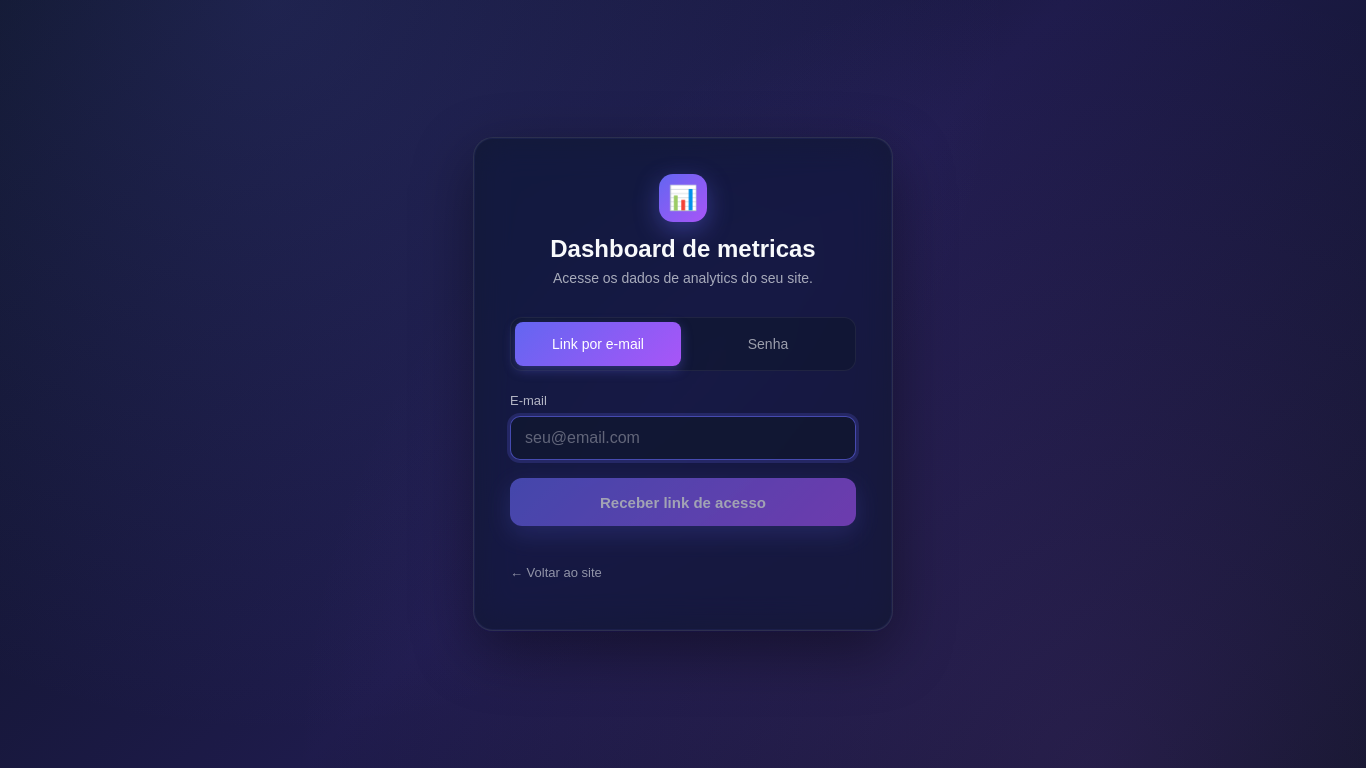
Test: ClienteLogin › mostra erro 429 ao estourar rate-limit
Step 1. Type "dan@acme.test" into the field labelled "E-mail" → (683, 438), box 510,416 -> 856,460
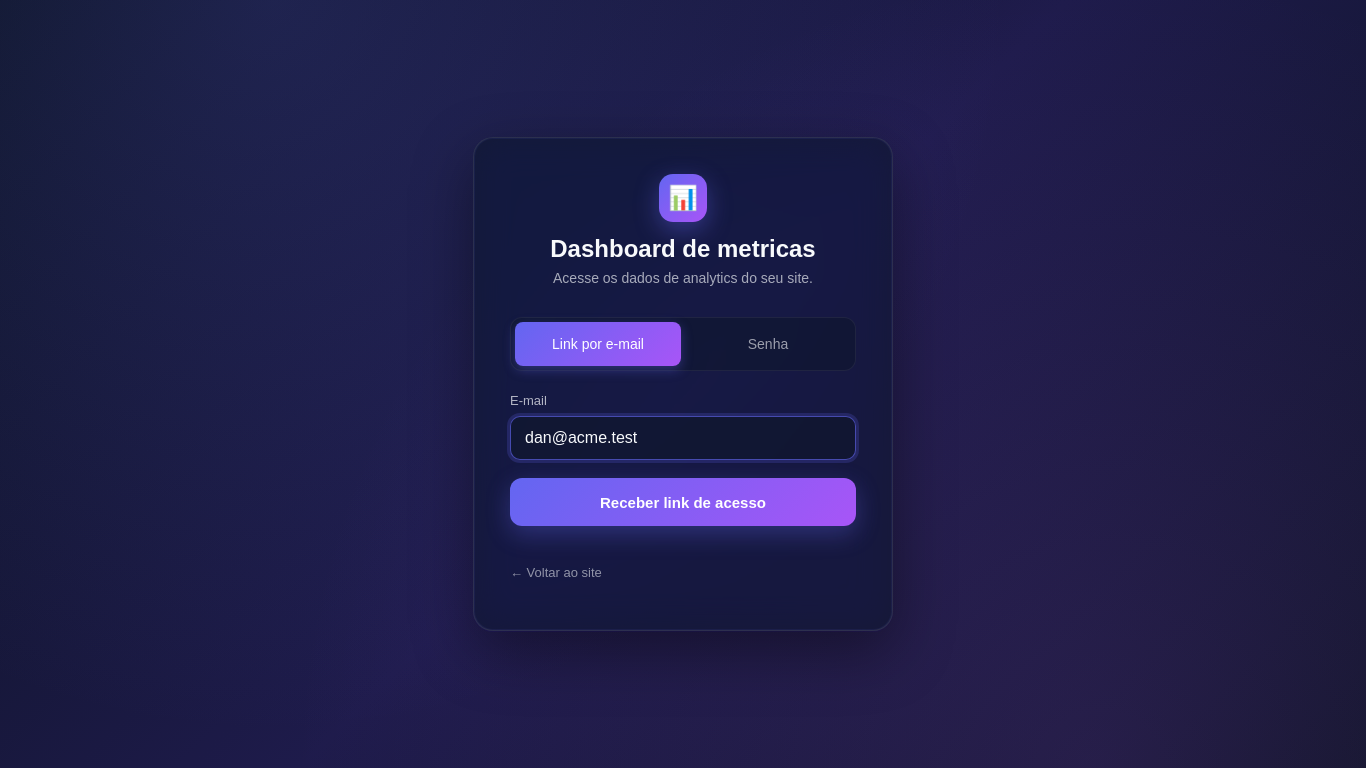
Step 2. Click the button "Receber link de acesso" → click(683, 502), box 510,478 -> 856,526
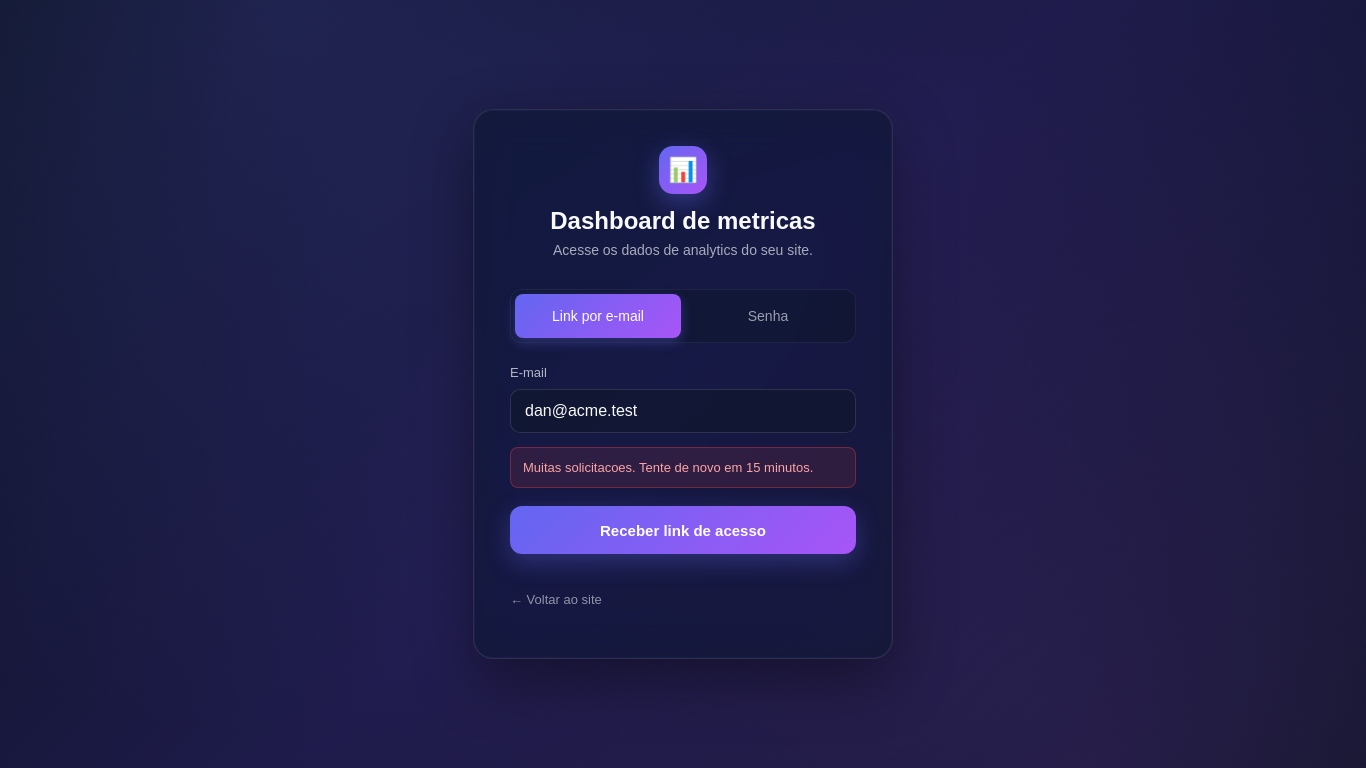
Expected: the message shows "15 minutos", 523,460 -> 813,474
